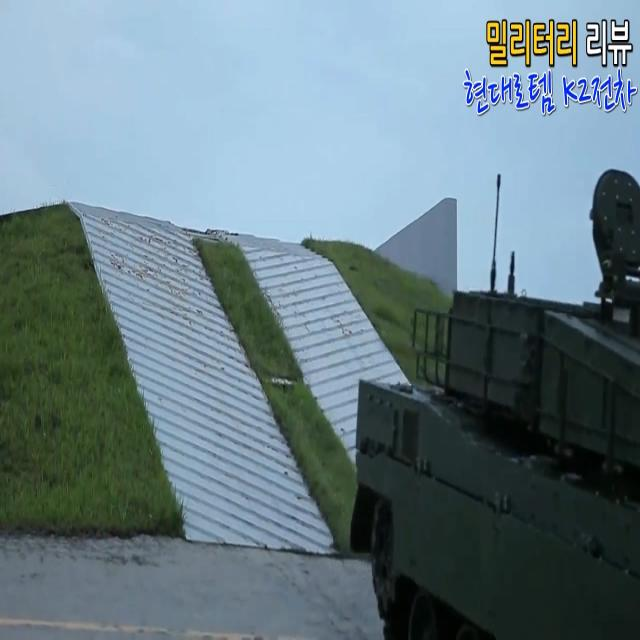korea tank: (346, 163, 640, 640)
